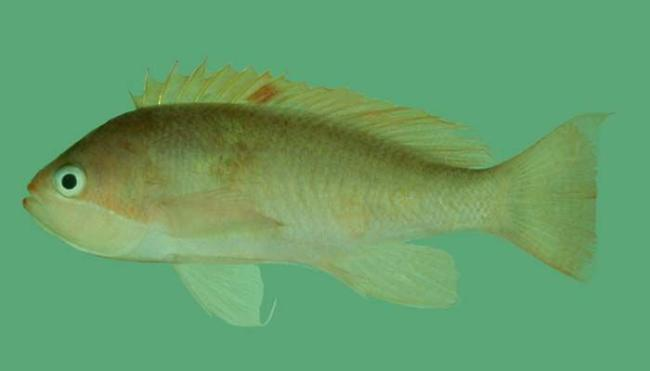fish: (21, 55, 616, 328)
